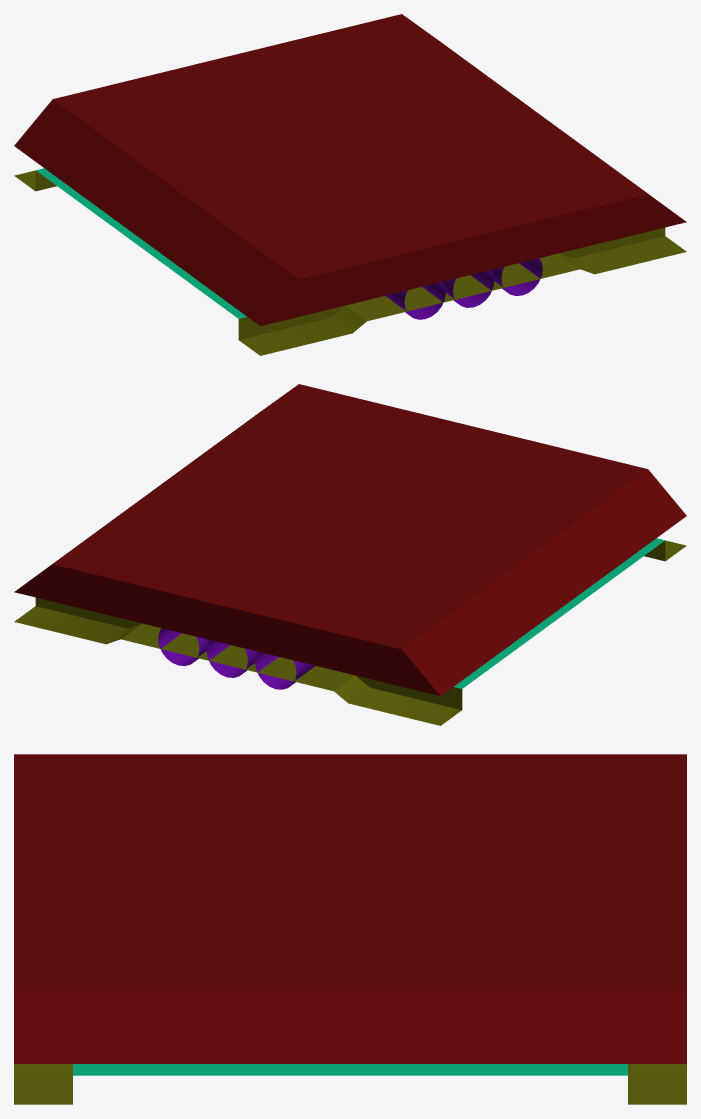
The model's file is OBJ_SF_Plafond.fbx.
The picture shows the model from 3 angles, top to bottom: view 1: azimuth 30°, elevation 25°; view 2: azimuth 150°, elevation 25°; view 3: azimuth 270°, elevation 25°; orthographic projection. The views are drawn at different scales.
Parts seen in each view (by area): view 1: OBJ_SF_Plafond; view 2: OBJ_SF_Plafond; view 3: OBJ_SF_Plafond.
Part boxes in pixels (left/top/right/bottom): OBJ_SF_Plafond: left=14, top=14, right=686, bottom=355; OBJ_SF_Plafond: left=14, top=384, right=686, bottom=725; OBJ_SF_Plafond: left=14, top=754, right=686, bottom=1104.
Size of the model in its own units: 12 by 1.94 by 12.
